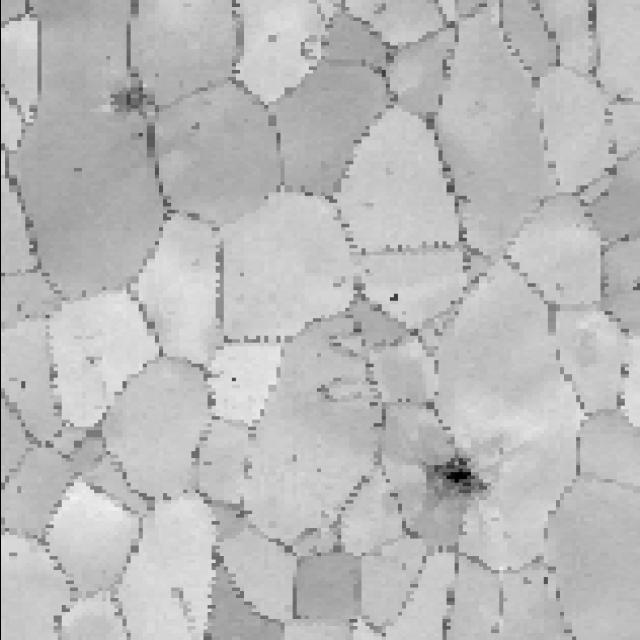good_void: (413, 432, 497, 505), (108, 72, 165, 137), (313, 374, 343, 403), (77, 351, 100, 366), (68, 162, 85, 178), (262, 33, 278, 46), (388, 293, 402, 304)
